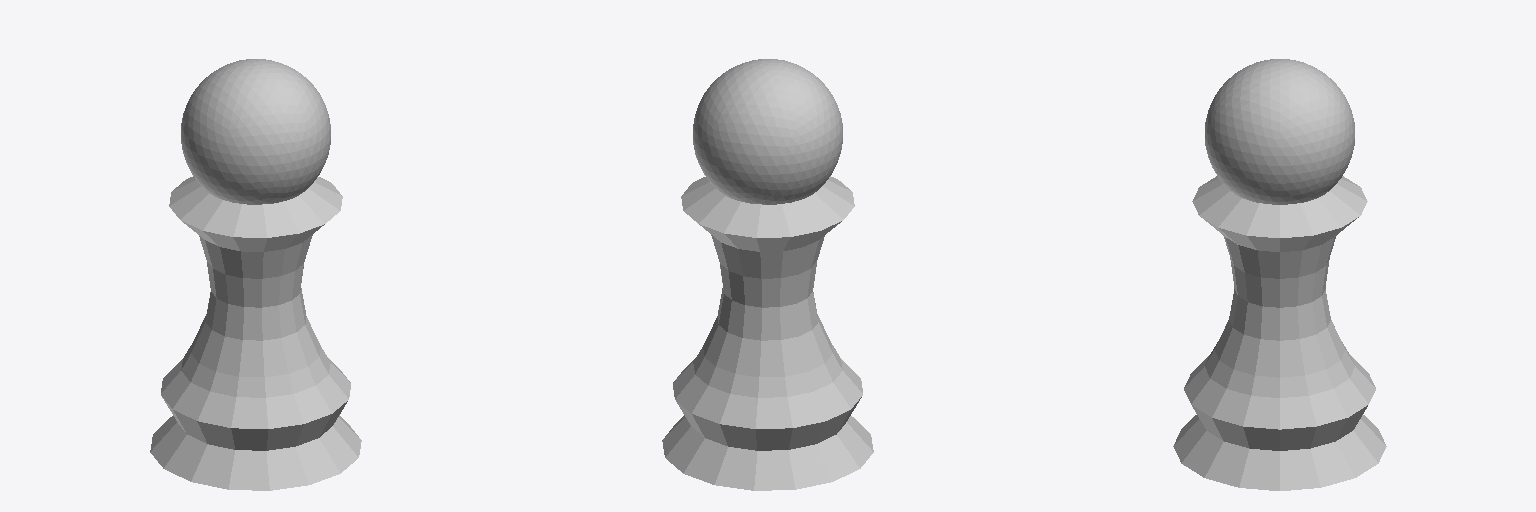
Rendered from pawn.obj.
3 views of the same model, side by side, from view 1: azimuth 30°, elevation 25°; view 2: azimuth 150°, elevation 25°; view 3: azimuth 270°, elevation 25° (orthographic).
Parts seen in each view (by area): view 1: Cylinder, Icosphere; view 2: Cylinder, Icosphere; view 3: Cylinder, Icosphere.
Boxes of the visible parts, box(x1,y1,x2,y2) form: Cylinder: box(150, 176, 361, 490); Icosphere: box(181, 59, 330, 204); Cylinder: box(662, 176, 873, 490); Icosphere: box(693, 59, 842, 204); Cylinder: box(1173, 176, 1386, 490); Icosphere: box(1205, 59, 1354, 204).
Size of the model in its own units: 2.83 by 5.57 by 2.83.